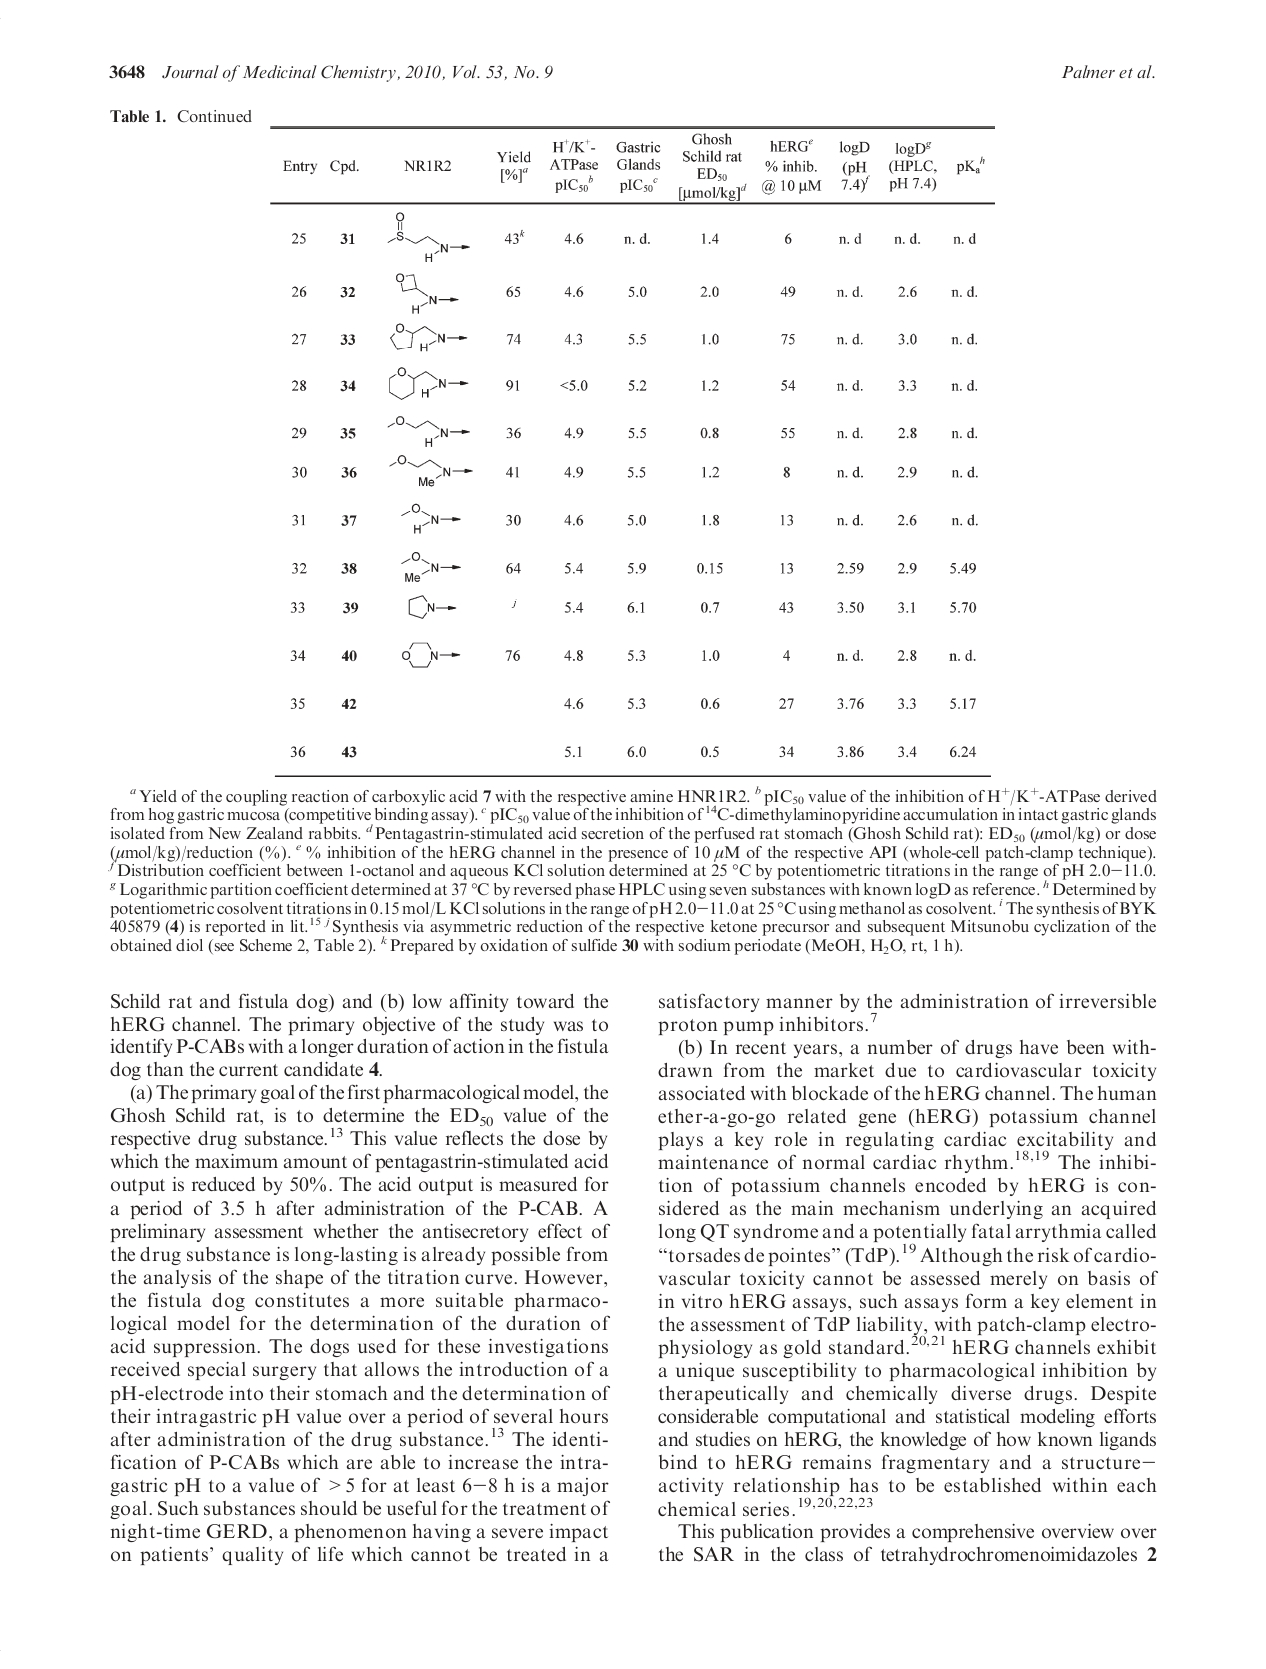exist_molecular: (386, 207, 449, 263), (383, 410, 451, 449), (382, 453, 452, 489), (386, 267, 438, 315), (382, 363, 448, 400), (388, 321, 445, 352), (398, 551, 442, 584), (399, 501, 442, 535), (402, 638, 439, 670), (402, 593, 438, 618)
